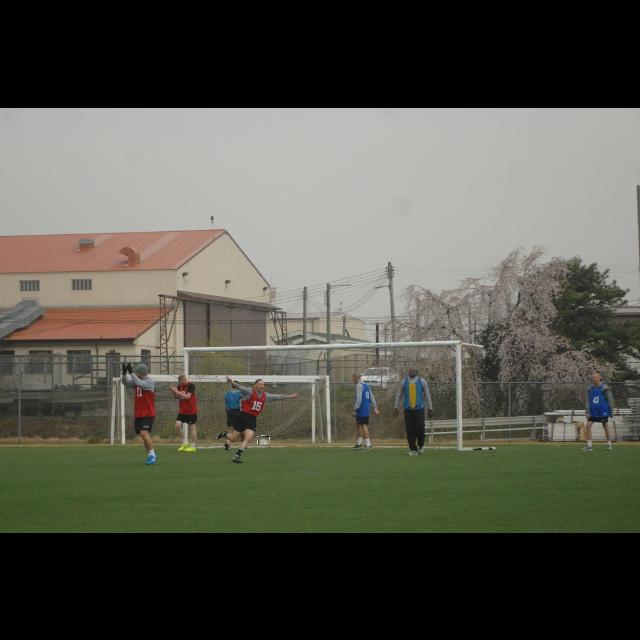Football: (258, 436, 270, 444)
